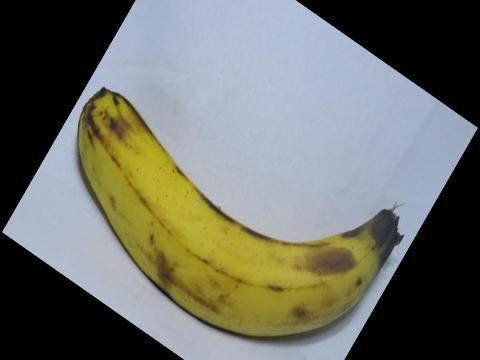ripe: (66, 74, 413, 356)
